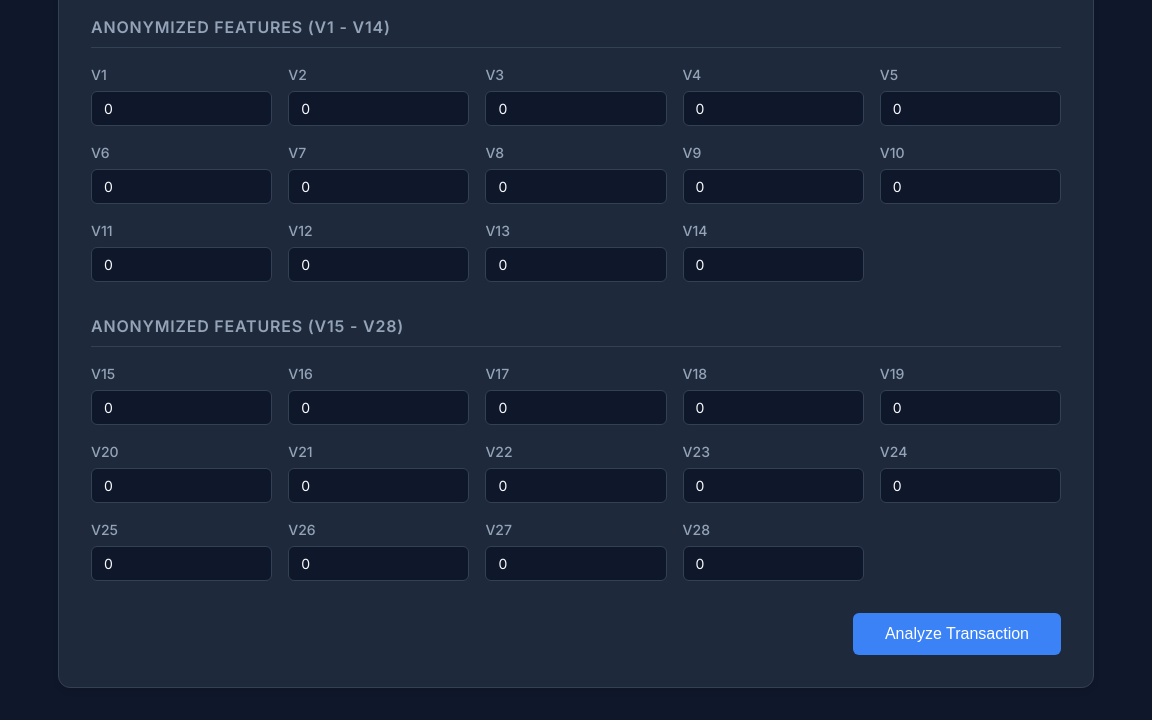
Test: Fraud Detection Dashboard › submits form and displays fraud result correctly
(page scrolled)
Click the button "Analyze Transaction" at (957, 634), box [853,613,1061,655]
(page scrolled)
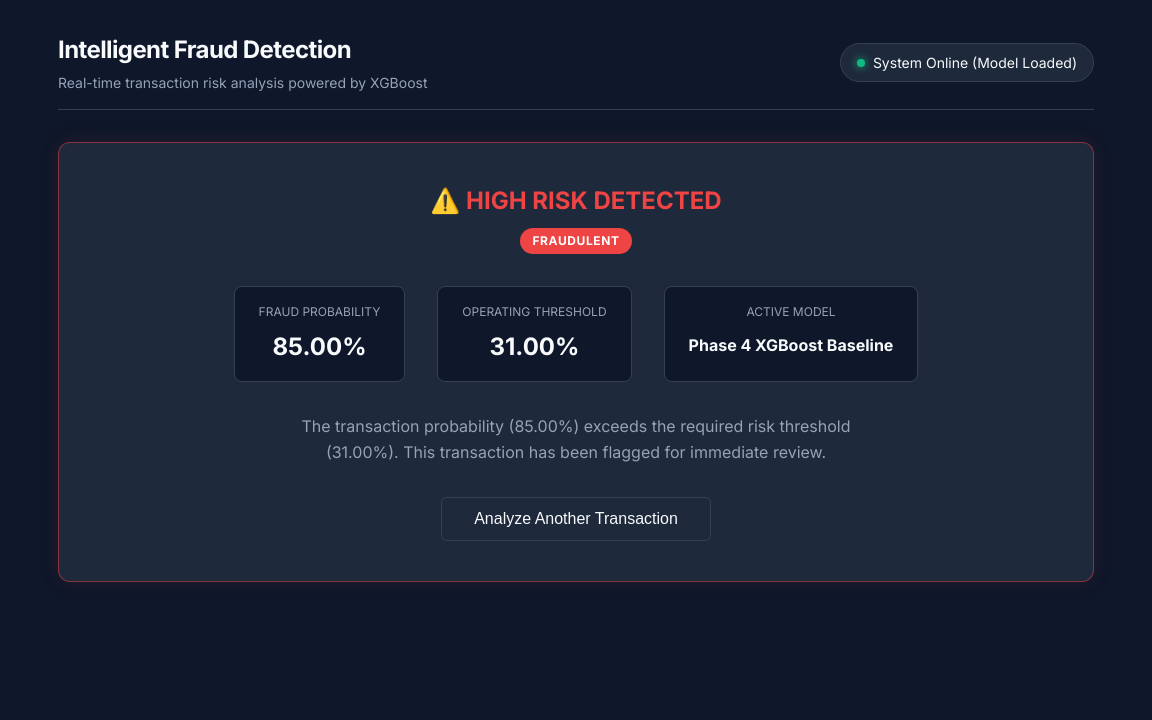
Expected: the heading "⚠️ HIGH RISK DETECTED" is shown, [430,186,722,215]
Expected: the text "FRAUDULENT" is shown, [520,228,632,254]
Expected: the text "85.00%" is shown, [272,332,366,361]
